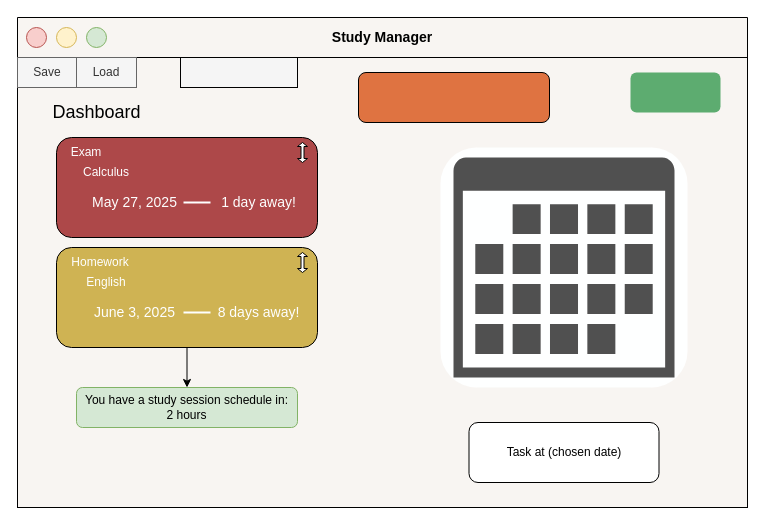
The diagram is 765 pixels wide and 525 high, and some of its shapes have lost their labels. Here are the shapes that lost their labels. From the top down, the centre of each, then its label:
the point at 239,72: All Tasks
the point at 675,92: + Add Task
the point at 454,97: You've studied 3 days in a row!
